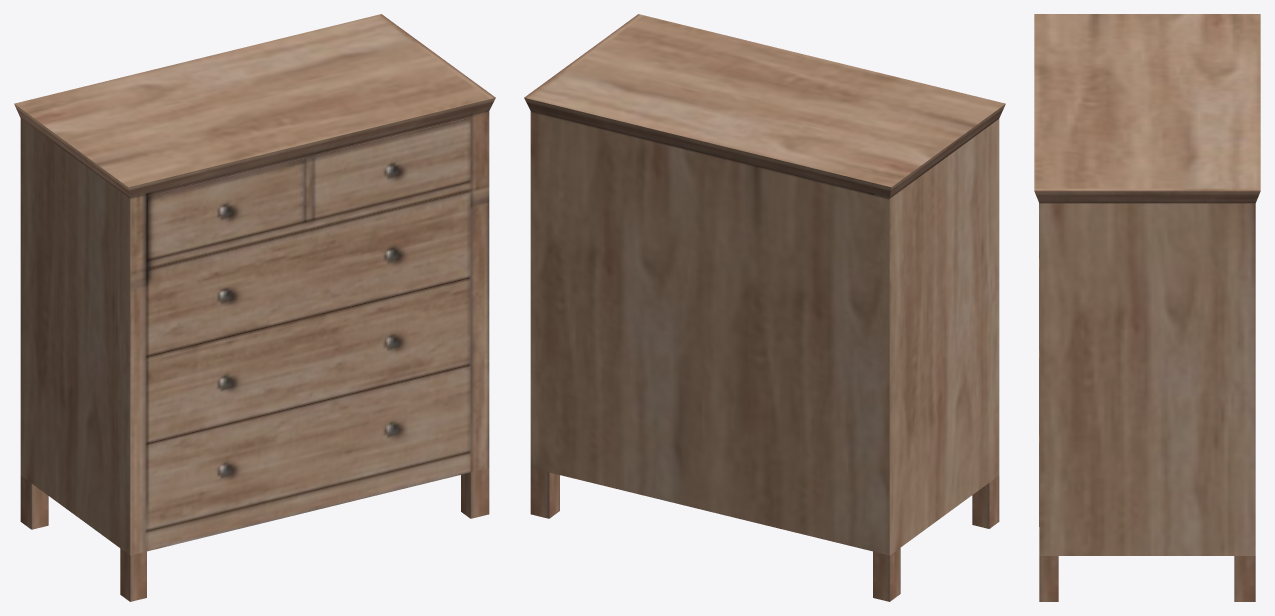
Rendered from comoda_f.glb.
The picture shows the model from 3 angles, left to right: view 1: azimuth 30°, elevation 25°; view 2: azimuth 150°, elevation 25°; view 3: azimuth 270°, elevation 25°; orthographic projection.
Visible parts, largest first — view 1: comoda_f; view 2: comoda_f; view 3: comoda_f.
Part boxes in pixels (x1=…): comoda_f: x1=14, y1=14, x2=495, y2=601; comoda_f: x1=524, y1=14, x2=1005, y2=601; comoda_f: x1=1034, y1=14, x2=1260, y2=601.
Bounding box in the file's own units: 0.8973 × 0.9738 × 0.4837.
Materials: 1 (1 with a texture image).
